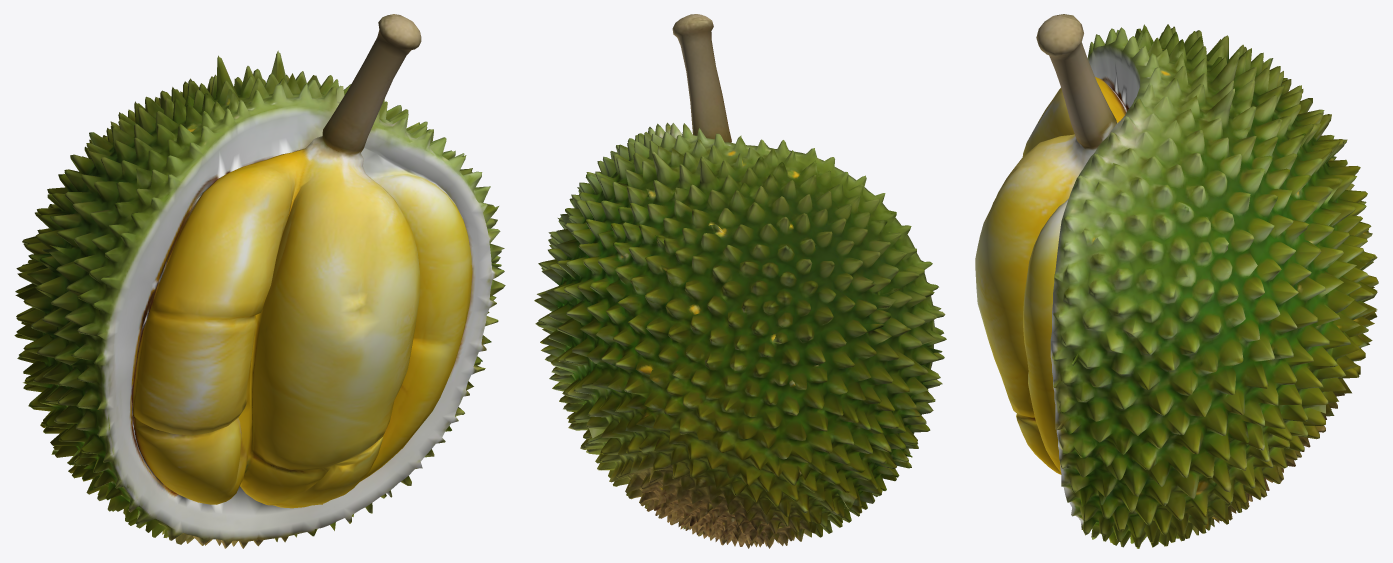
Rendered from Durian Model.glb.
The picture shows the model from 3 angles, left to right: view 1: azimuth 30°, elevation 25°; view 2: azimuth 150°, elevation 25°; view 3: azimuth 270°, elevation 25°; orthographic projection. The views are drawn at different scales.
Visible parts, largest first — view 1: Mesh_0; view 2: Mesh_0; view 3: Mesh_0.
Boxes of the visible parts, left/top/right/bottom form: Mesh_0: left=14, top=14, right=505, bottom=548; Mesh_0: left=534, top=14, right=946, bottom=548; Mesh_0: left=975, top=14, right=1378, bottom=548.
Size of the model in its own units: 0.8496 by 0.998 by 0.6582.
1 material, 1 textured.
